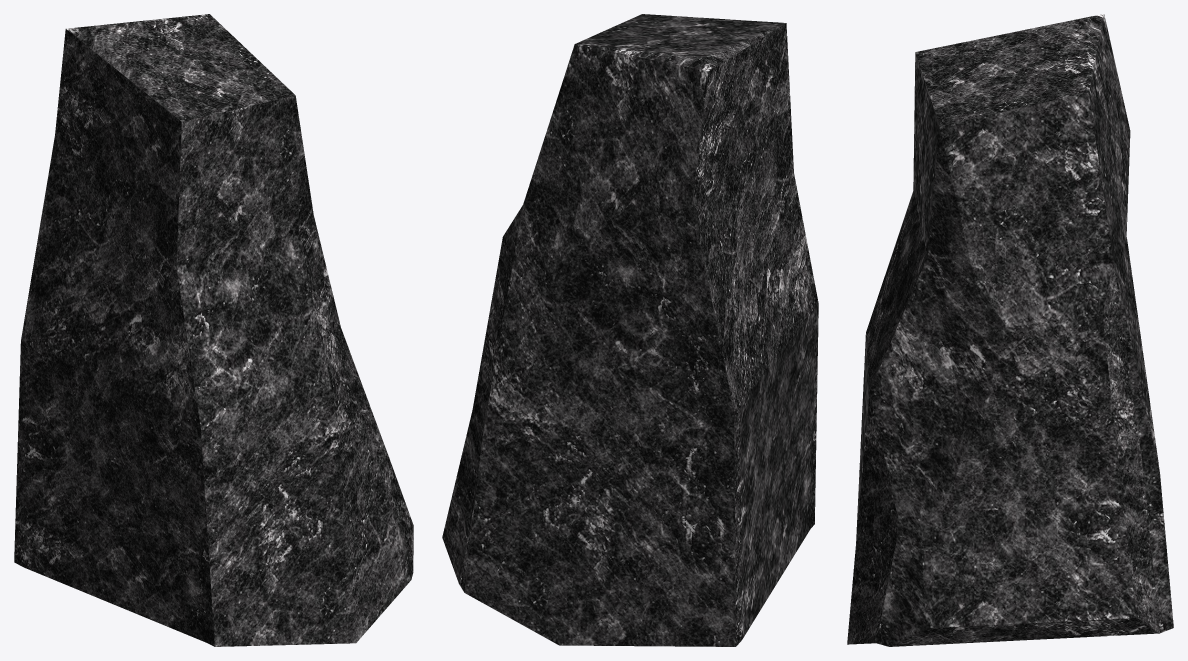
Rendered from rocha_a.glb.
3 renders of one model, left to right at view 1: azimuth 30°, elevation 25°; view 2: azimuth 150°, elevation 25°; view 3: azimuth 270°, elevation 25°, orthographic. The views are drawn at different scales.
Parts seen in each view (by area): view 1: Rock_1_Cube.018; view 2: Rock_1_Cube.018; view 3: Rock_1_Cube.018.
Part boxes in pixels (x1,y1,x2,y2): Rock_1_Cube.018: [14, 14, 413, 646]; Rock_1_Cube.018: [442, 14, 818, 646]; Rock_1_Cube.018: [847, 14, 1173, 646].
Bounding box in the file's own units: 0.4853 × 0.8778 × 0.4667.
1 material, 1 textured.
